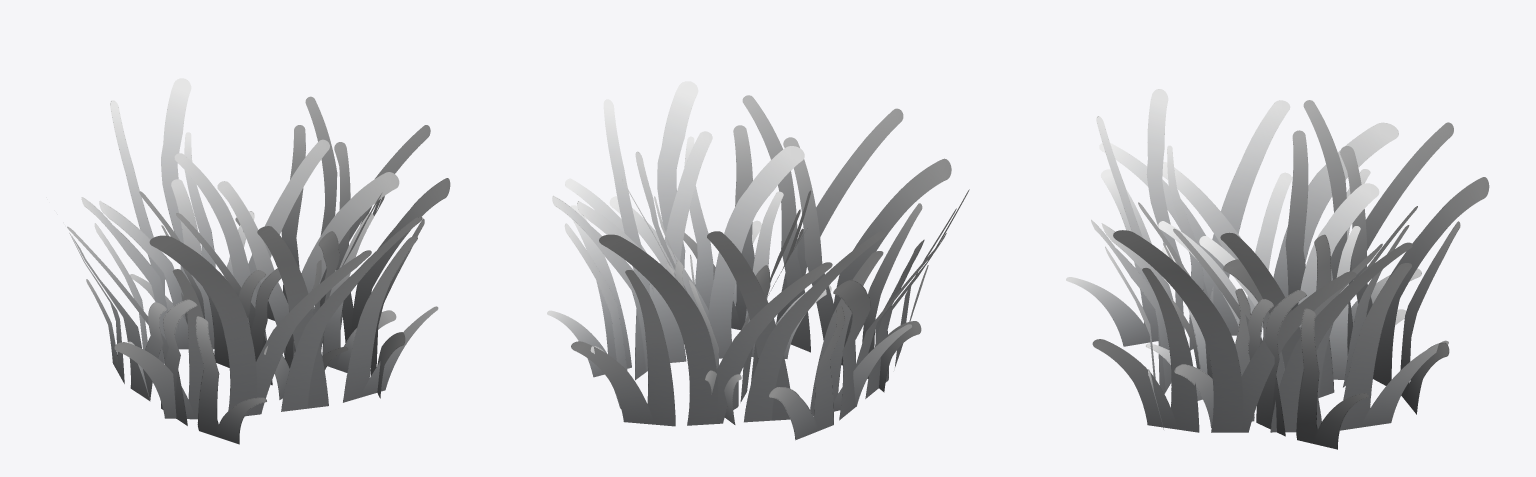
File: SM_Grass_01.fbx
3 renders of one model, left to right at view 1: azimuth 30°, elevation 25°; view 2: azimuth 150°, elevation 25°; view 3: azimuth 270°, elevation 25°, orthographic. The views are drawn at different scales.
Visible parts, largest first — view 1: pPlane2, pPlane4, pPlane3, pPlane7, pPlane6, pPlane8, pPlane5; view 2: pPlane3, pPlane2, pPlane5, pPlane7, pPlane6, pPlane4, pPlane8; view 3: pPlane7, pPlane3, pPlane6, pPlane5, pPlane8, pPlane2, pPlane4.
Boxes of the visible parts, box(x1,y1,x2,y2) form: pPlane2: box(114, 216, 438, 419); pPlane4: box(130, 139, 399, 372); pPlane3: box(81, 78, 254, 401); pPlane7: box(235, 96, 450, 398); pPlane6: box(67, 226, 266, 444); pPlane8: box(139, 191, 348, 385); pPlane5: box(264, 193, 384, 399); pPlane3: box(571, 231, 911, 426); pPlane2: box(683, 95, 951, 392); pPlane5: box(547, 131, 831, 377); pPlane7: box(552, 81, 761, 408); pPlane6: box(769, 189, 969, 440); pPlane4: box(622, 151, 741, 424); pPlane8: box(705, 190, 810, 409); pPlane7: box(1092, 230, 1448, 432); pPlane3: box(1285, 100, 1489, 414); pPlane6: box(1066, 100, 1421, 346); pPlane5: box(1138, 202, 1368, 449); pPlane8: box(1145, 172, 1406, 400); pPlane2: box(1091, 89, 1213, 429); pPlane4: box(1174, 206, 1417, 427).
Size of the model in its own units: 166 by 164 by 102.
Materials: 1 (1 with a texture image).
